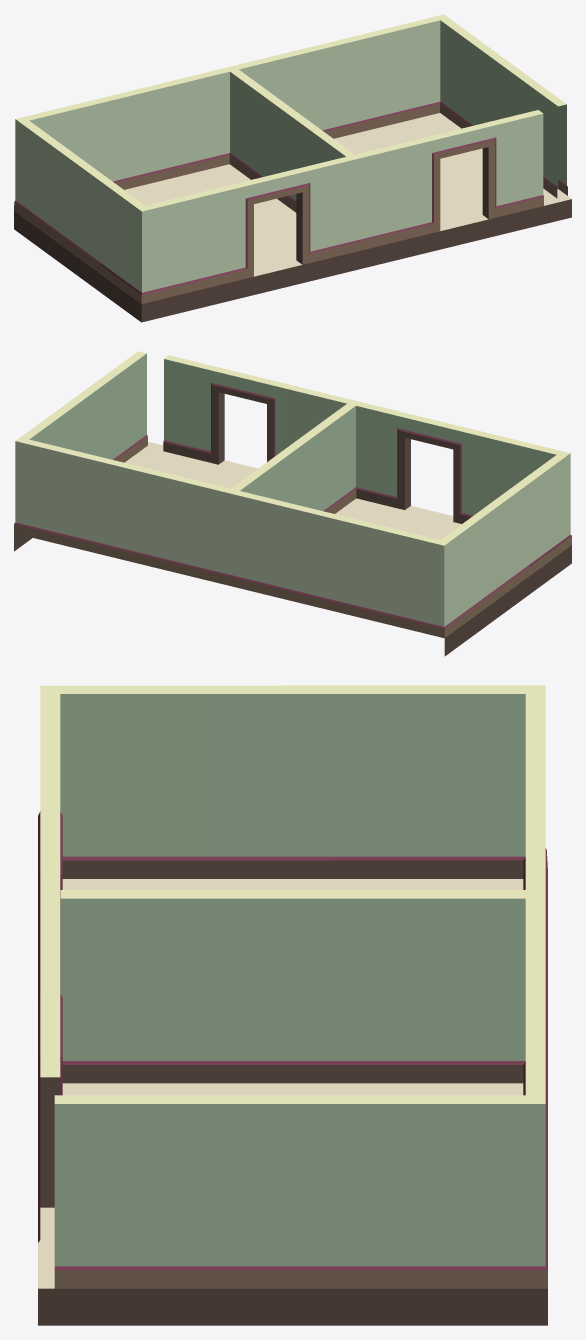
File: Manager_Room.fbx
3 views of the same model, one above another, from view 1: azimuth 30°, elevation 25°; view 2: azimuth 150°, elevation 25°; view 3: azimuth 270°, elevation 25° (orthographic). The views are drawn at different scales.
Visible parts, largest first — view 1: Manager_Room; view 2: Manager_Room; view 3: Manager_Room.
Part boxes in pixels (x1,y1,x2,y2): Manager_Room: (14, 14, 571, 322); Manager_Room: (14, 351, 571, 656); Manager_Room: (38, 685, 547, 1325).
Size of the model in its own units: 579 by 142 by 297.
